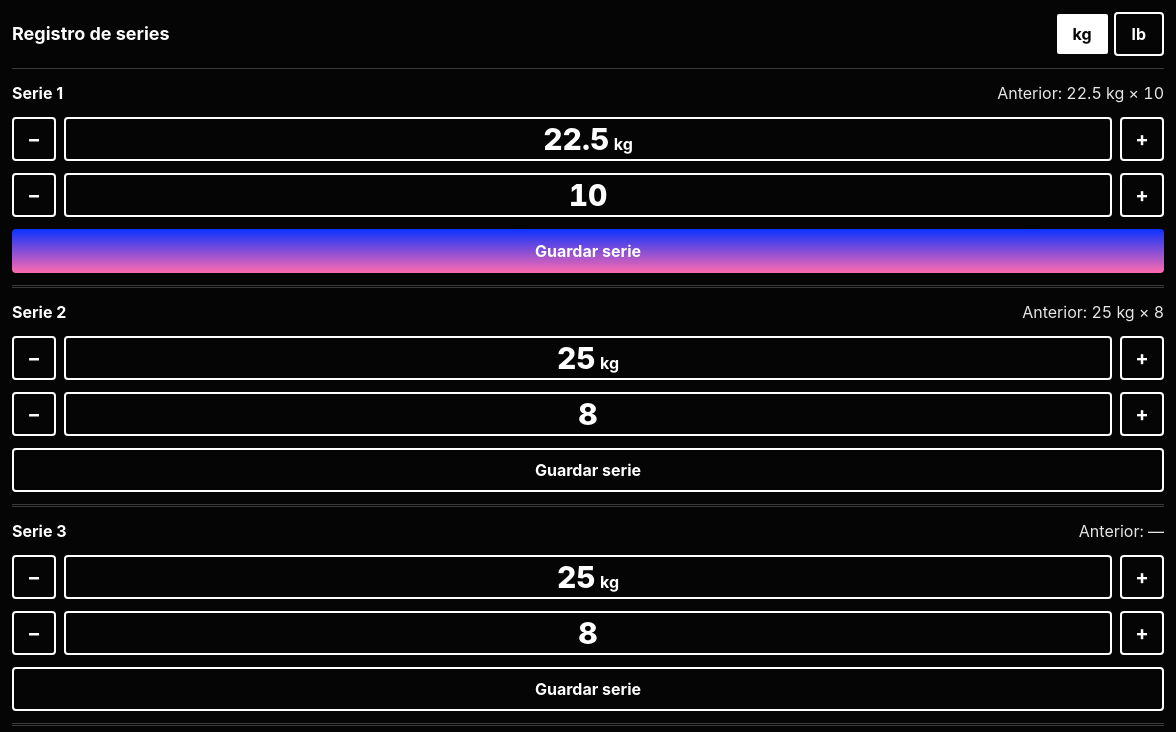
Test: LoggingSection — unidad de peso (08 R1, R4, R6, R7, R11, R14, R15) › R11: togglear con una fila editada re-renderiza el valor sin tocar el kg subyacente
The image size is (1176, 732).
Expected: the heading "Serie 1" is shown, [12,81,63,105]
Click the button named "Aumentar Peso serie 1": (1142, 139) [1120,117,1164,161]
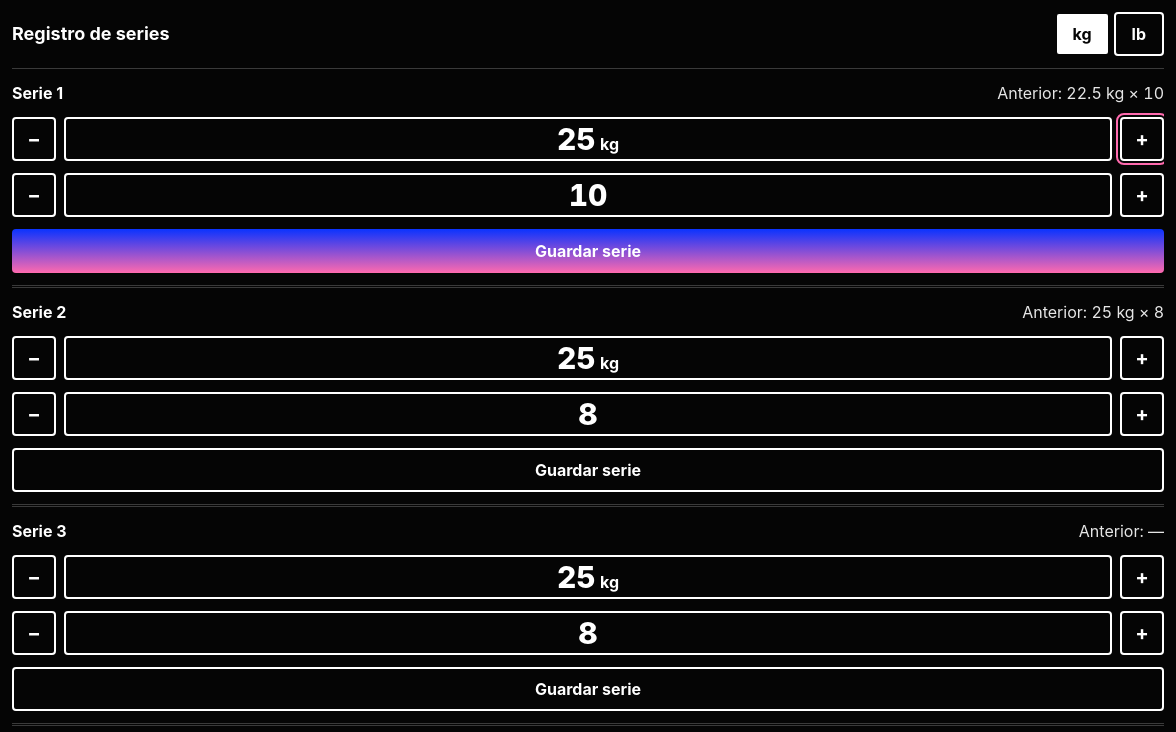
Now the button with aria-label "Peso serie 1" reads "25 kg", box [64,117,1112,161]
Click the button "lb": (1139, 34) [1114,12,1164,56]
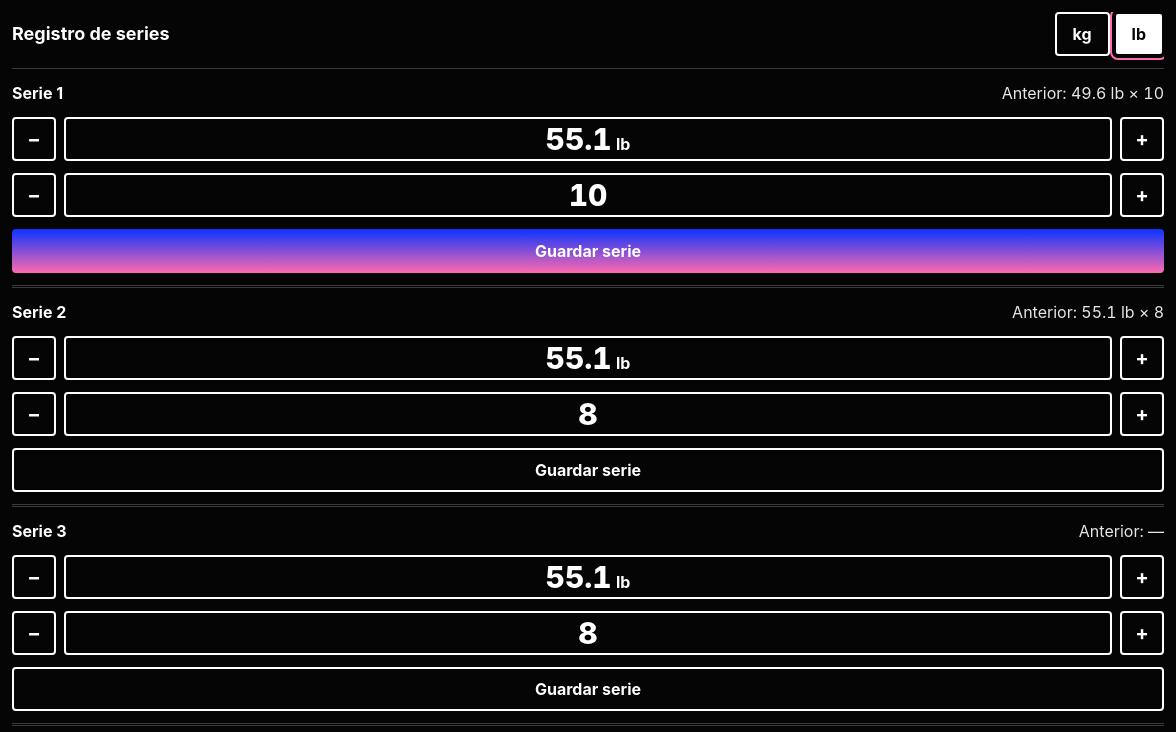
Expected: the button named "Repeticiones serie 1" reads "10", [64,173,1112,217]
Now the button with aria-label "Peso serie 1" reads "55.1 lb", box [64,117,1112,161]
# Y al guardar sale el kg exacto que el usuario había editado (R14).
Click the button "Guardar serie" below "49.6 lb × 10": (588, 251) [12,229,1164,273]
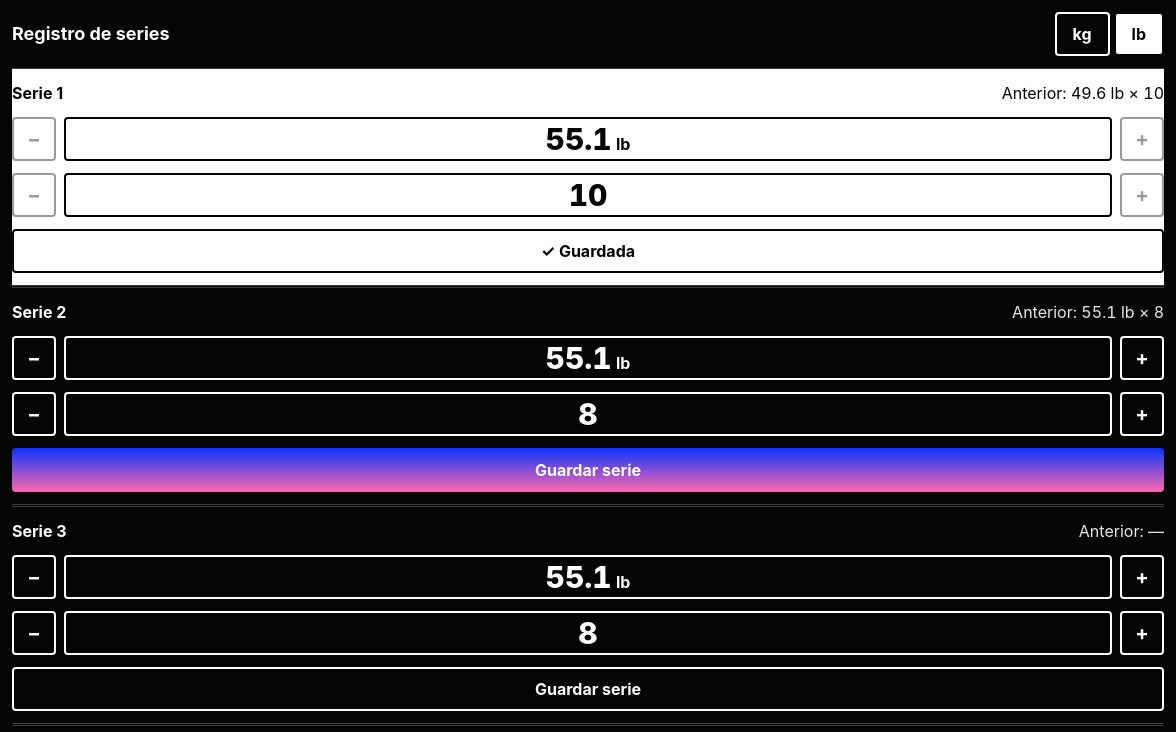
Now the button "✓ Guardada" is shown, box [12,229,1164,273]
